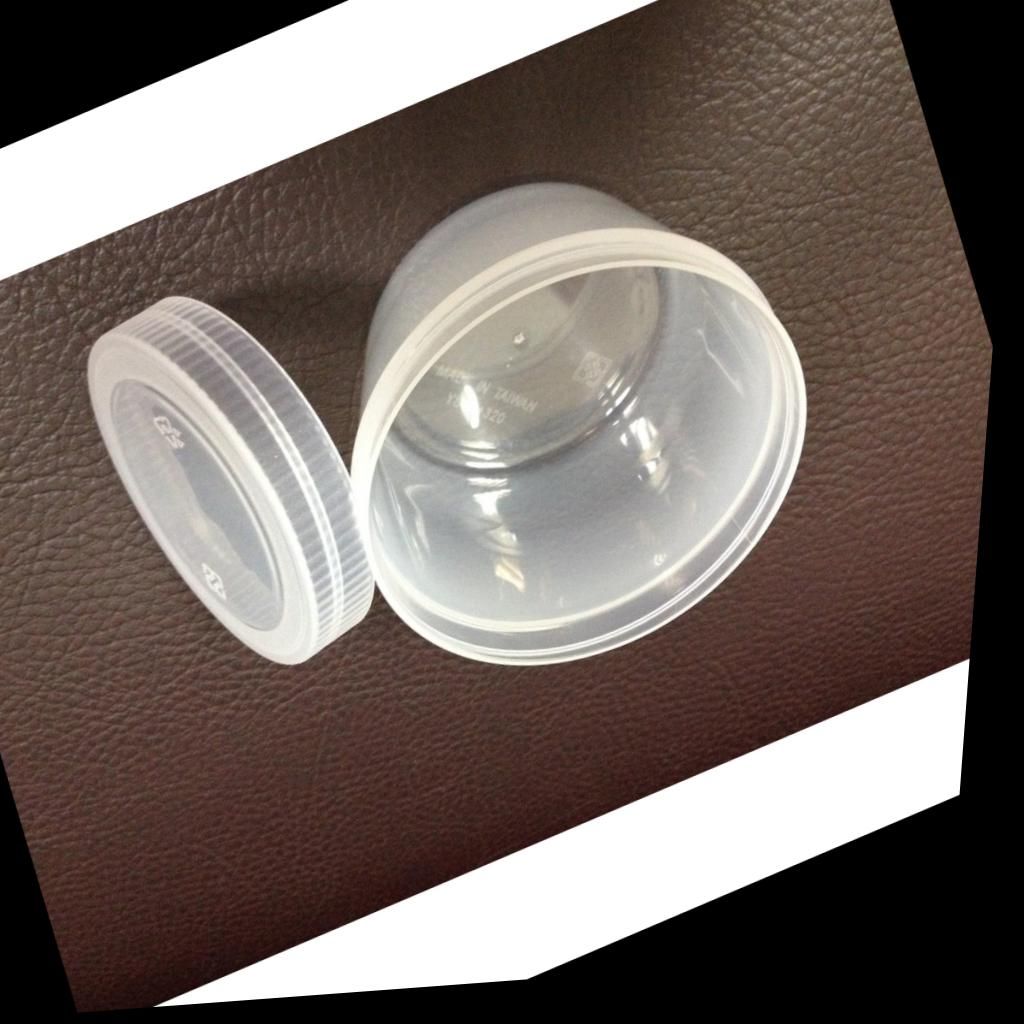plastic: (0, 0, 988, 1009)
